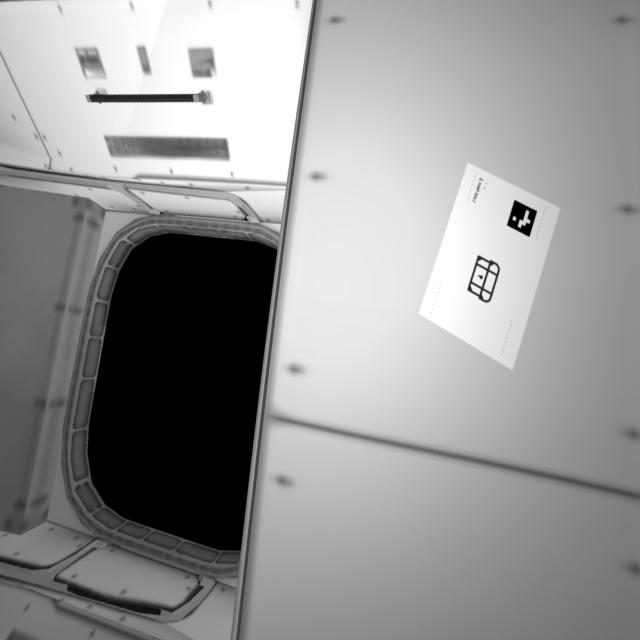treasure_box: (458, 253, 503, 308)
